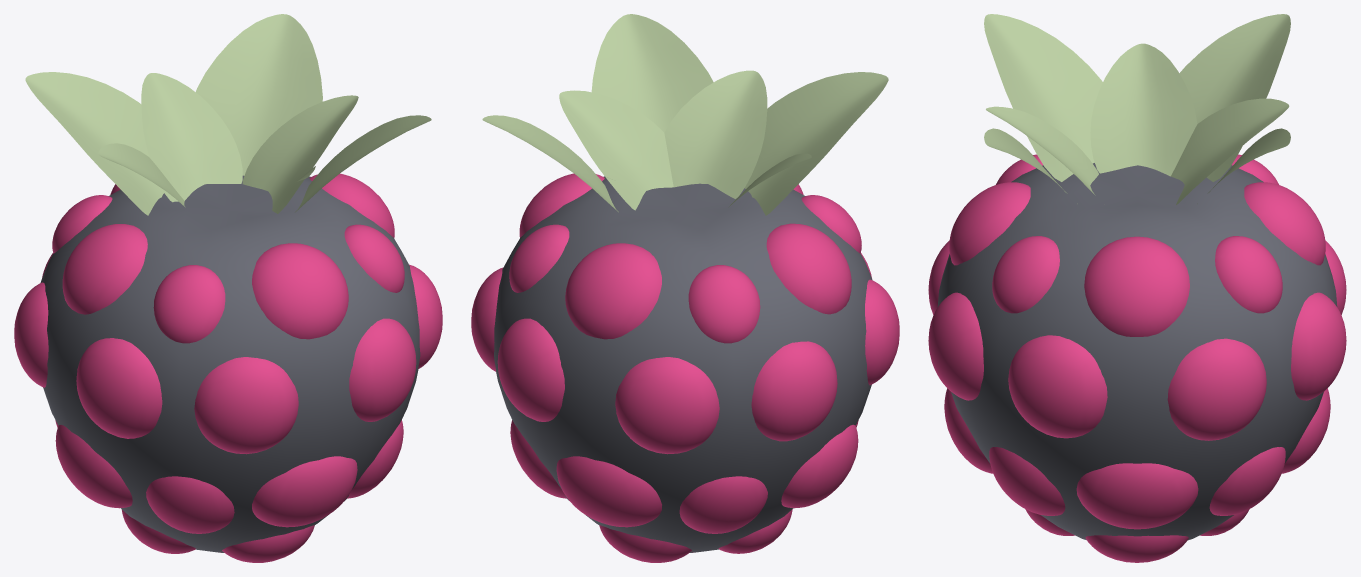
3 renders of one model, left to right at view 1: azimuth 30°, elevation 25°; view 2: azimuth 150°, elevation 25°; view 3: azimuth 270°, elevation 25°, orthographic. The views are drawn at different scales.
Parts seen in each view (by area): view 1: 球体_1, 身体, 对称_4; view 2: 球体_1, 身体, 对称_4; view 3: 球体_1, 身体, 对称_4.
Part boxes in pixels (box(x1,y1,x2,y2)): 球体_1: box(14, 173, 442, 562); 身体: box(40, 175, 420, 552); 对称_4: box(25, 14, 431, 215); 球体_1: box(471, 173, 899, 562); 身体: box(494, 176, 872, 552); 对称_4: box(482, 14, 888, 215); 球体_1: box(928, 154, 1346, 562); 身体: box(937, 163, 1337, 540); 对称_4: box(984, 14, 1290, 204).
Bounding box in the file's own units: 1.89 × 2.3 × 1.89.
